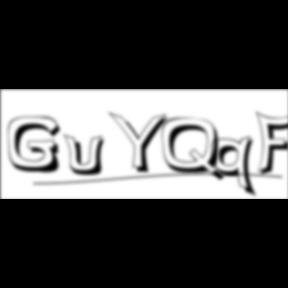G: (9, 116, 68, 176)
Q: (162, 117, 228, 184)
Y: (107, 110, 174, 176)
q: (212, 135, 260, 200)
u: (64, 132, 112, 178)
